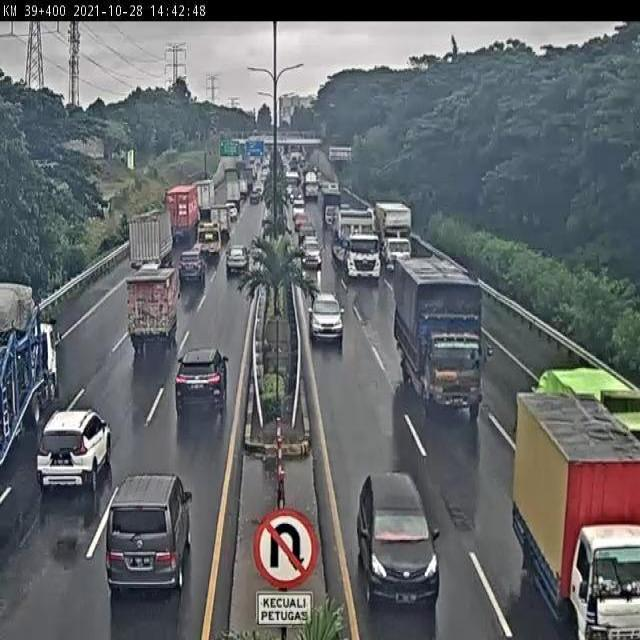car: (356, 473, 441, 607), (103, 480, 190, 587), (32, 410, 112, 490), (175, 347, 230, 411), (310, 289, 348, 343), (300, 235, 325, 271), (179, 247, 204, 279), (226, 247, 250, 272)
truck: (395, 256, 481, 416), (0, 276, 61, 473), (125, 268, 178, 351), (331, 211, 381, 279), (375, 200, 415, 272), (129, 216, 173, 265), (194, 223, 222, 255)
